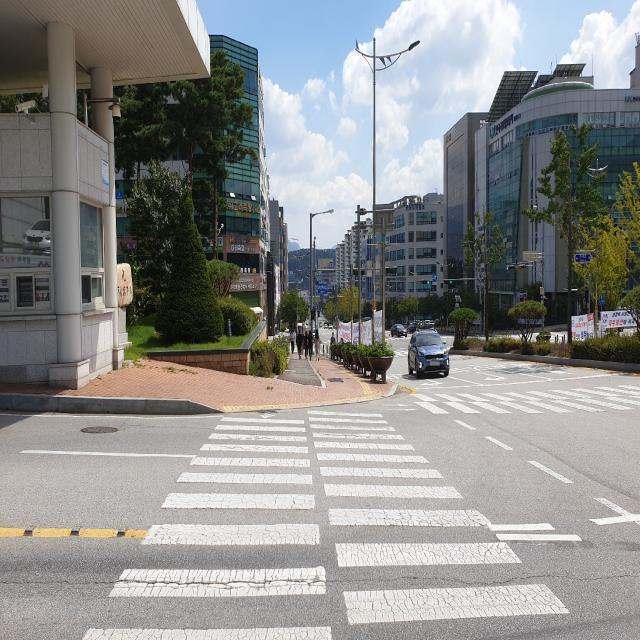횡단보도: (81, 408, 573, 640), (426, 388, 637, 412)
